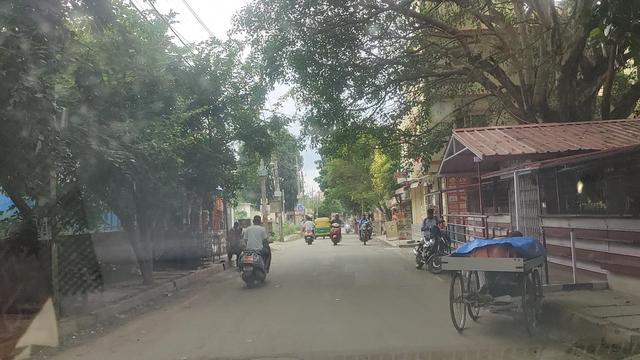LMV: (241, 214, 268, 291), (300, 216, 315, 247)
